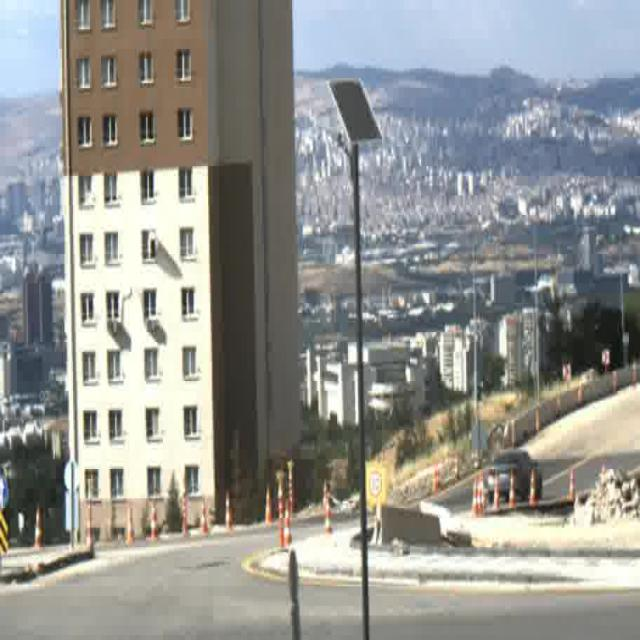Car: (487, 450, 544, 503)
